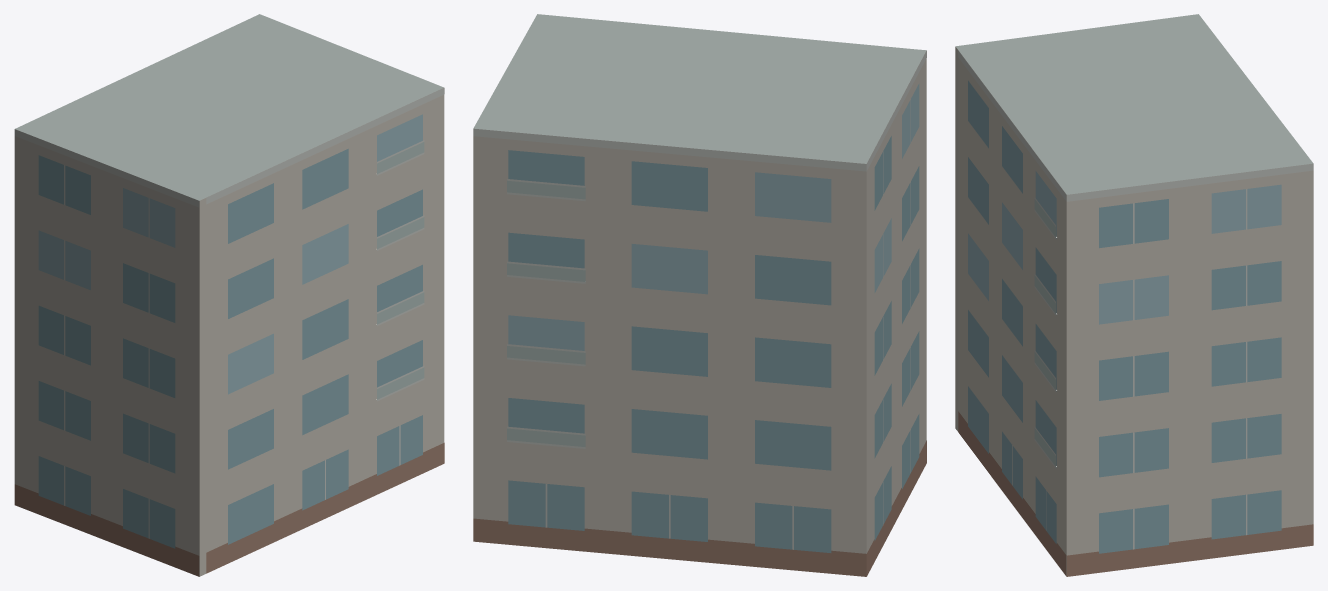
File: survey-upis-32594255.glb
3 views of the same model, side by side, from view 1: azimuth 30°, elevation 25°; view 2: azimuth 150°, elevation 25°; view 3: azimuth 270°, elevation 25° (orthographic). The views are drawn at different scales.
Visible parts, largest first — view 1: survey-upis-32594255.tmp; view 2: survey-upis-32594255.tmp; view 3: survey-upis-32594255.tmp.
Boxes of the visible parts, x1=… form: survey-upis-32594255.tmp: x1=14, y1=14, x2=444, y2=576; survey-upis-32594255.tmp: x1=473, y1=14, x2=926, y2=576; survey-upis-32594255.tmp: x1=955, y1=14, x2=1313, y2=576.
Size of the model in its own units: 13.51 by 13.3 by 11.32.
